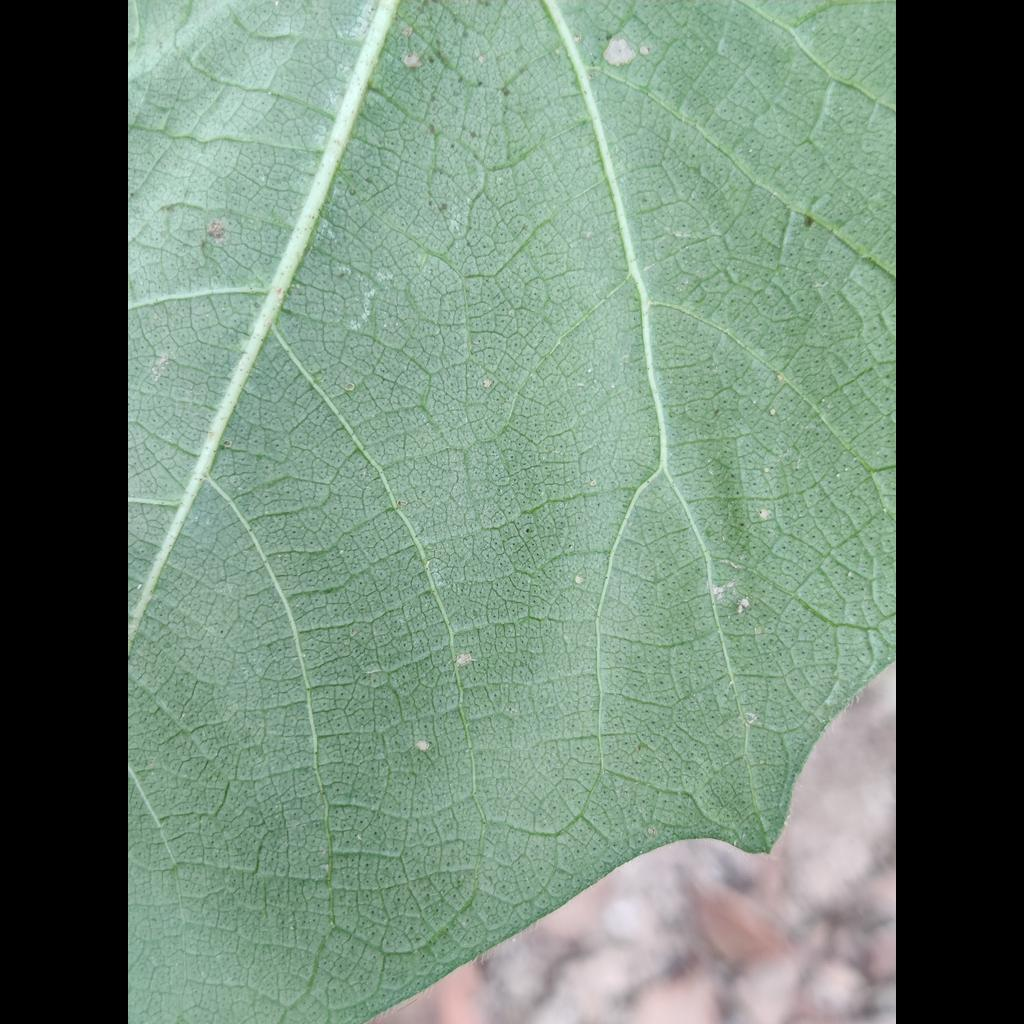nymph: (574, 576, 584, 584), (741, 599, 749, 607), (769, 408, 776, 416), (737, 605, 743, 614), (137, 583, 142, 590), (847, 571, 852, 578)
